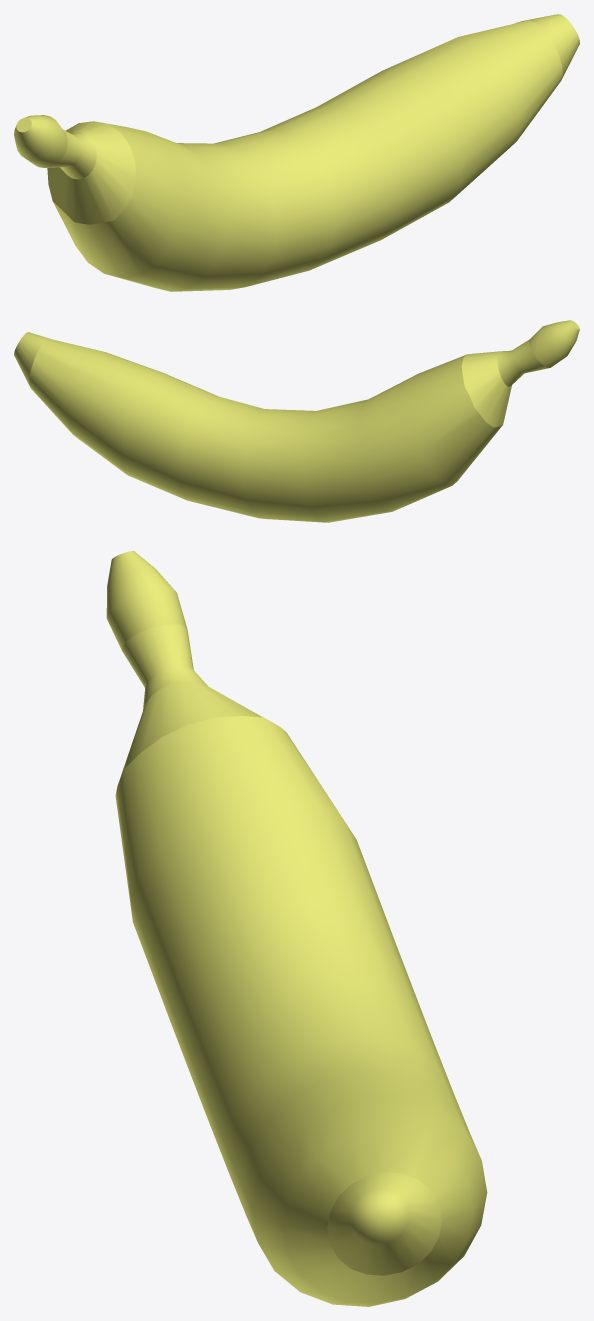
The model's file is banana.fbx.
The picture shows the model from 3 angles, top to bottom: view 1: azimuth 30°, elevation 25°; view 2: azimuth 150°, elevation 25°; view 3: azimuth 270°, elevation 25°; orthographic projection. The views are drawn at different scales.
Parts seen in each view (by area): view 1: banana; view 2: banana; view 3: banana.
Part boxes in pixels (bbox=[...]): banana: bbox=[14, 14, 579, 291]; banana: bbox=[14, 320, 579, 522]; banana: bbox=[106, 551, 487, 1306].
Size of the model in its own units: 2.44 by 1.01 by 0.8074.
